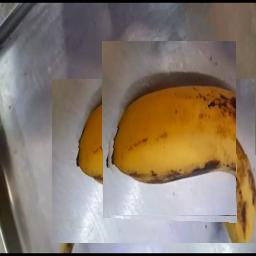Banana Semirotten: (52, 79, 256, 243), (102, 42, 236, 217)
